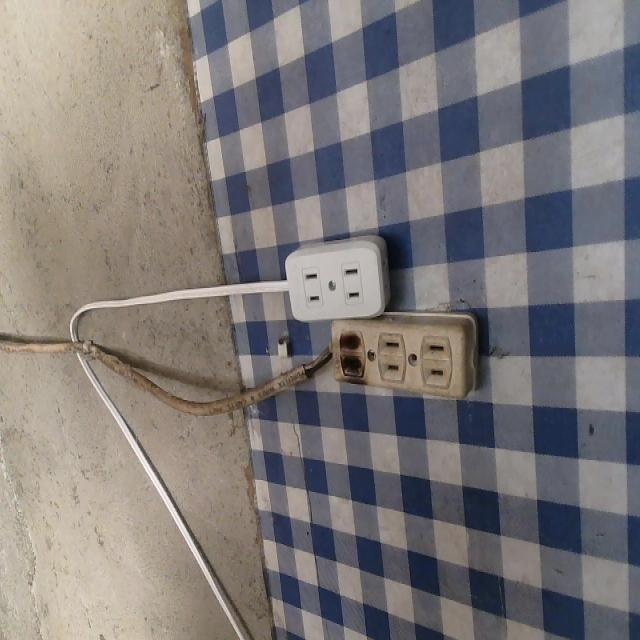-: (333, 324, 370, 392)
